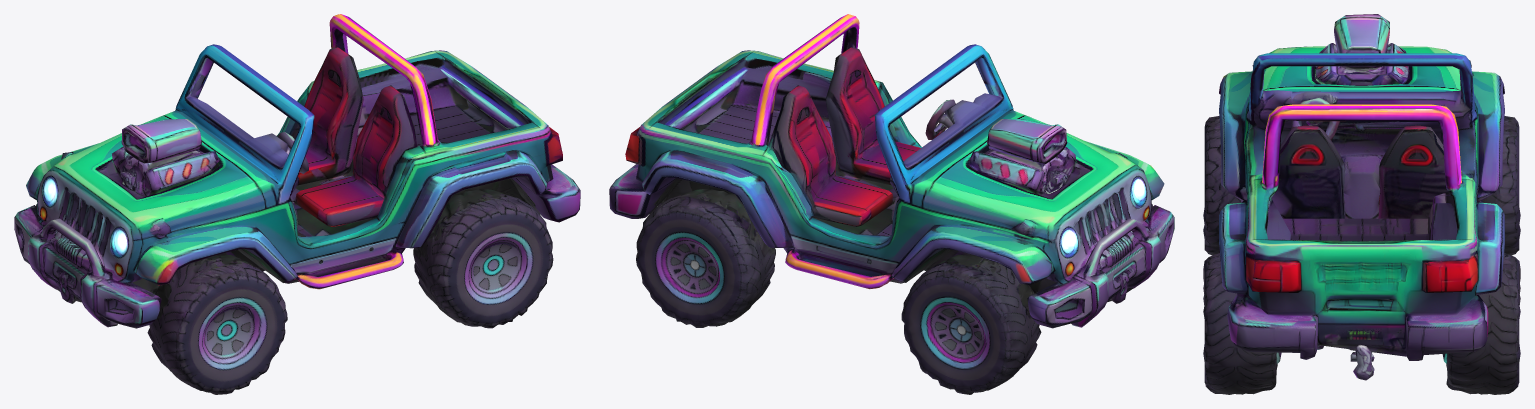
Rendered from Car_AI_Neon_Off_Road_Jeep_0527010645_texture.glb.
3 views of the same model, side by side, from view 1: azimuth 30°, elevation 25°; view 2: azimuth 150°, elevation 25°; view 3: azimuth 270°, elevation 25° (orthographic). The views are drawn at different scales.
Visible parts, largest first — view 1: Car_jeep; view 2: Car_jeep; view 3: Car_jeep.
Boxes of the visible parts, x1=… form: Car_jeep: x1=14, y1=14, x2=580, y2=394; Car_jeep: x1=609, y1=14, x2=1174, y2=394; Car_jeep: x1=1203, y1=14, x2=1520, y2=394.
Bounding box in the file's own units: 1.9 × 0.9354 × 1.04.
1 material, 1 textured.
